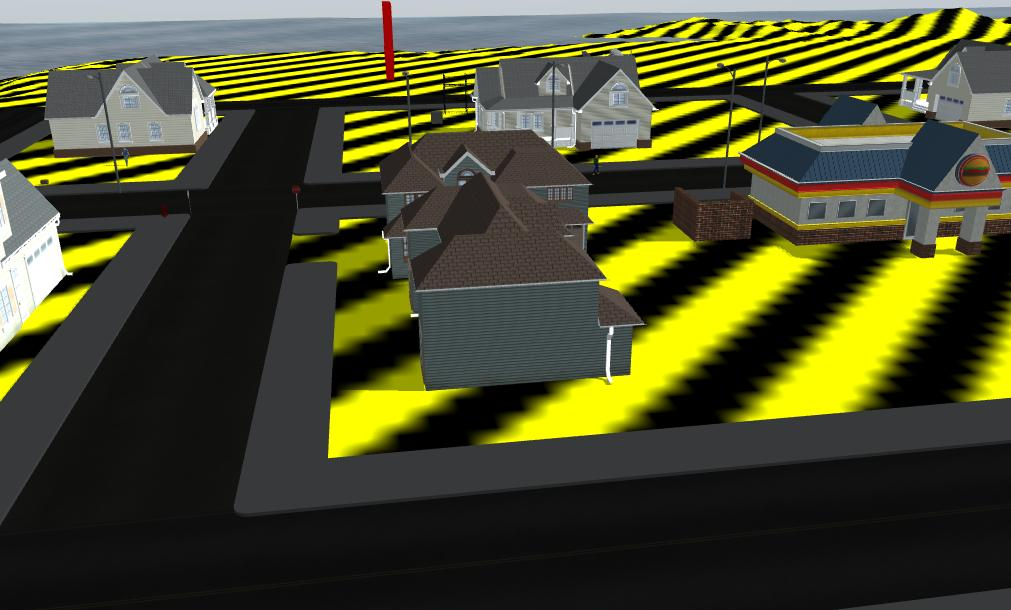street light: (91, 65, 131, 186), (717, 63, 747, 166), (763, 51, 788, 147), (396, 67, 418, 139)
